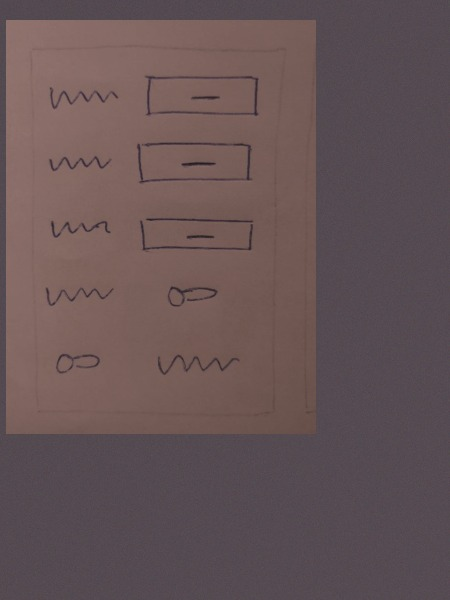button: (141, 68, 261, 124), (134, 132, 254, 187), (136, 205, 256, 260)
switch: (45, 339, 111, 378), (156, 275, 221, 314)
text: (151, 342, 241, 381), (152, 344, 242, 382), (42, 81, 122, 122), (41, 140, 121, 181), (43, 205, 123, 246), (41, 278, 121, 319)
